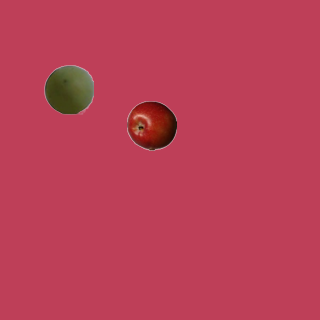Apple Braeburn: (126, 100, 176, 150)
Grape White 4: (43, 64, 93, 114)
